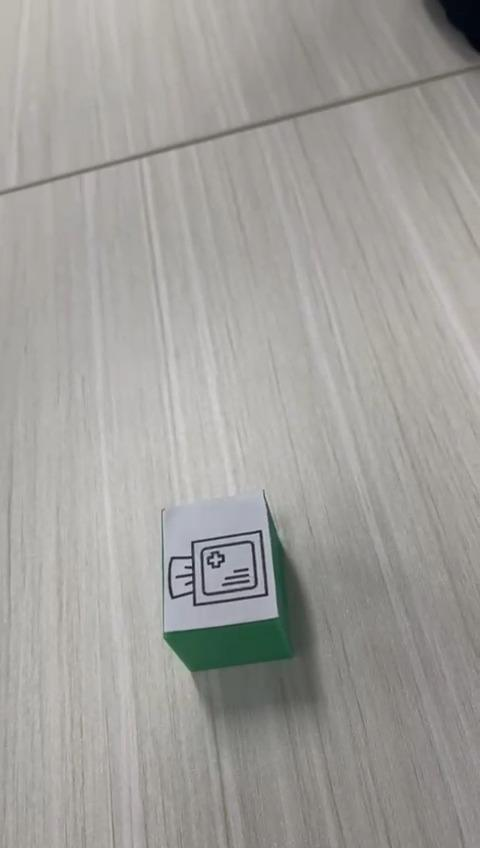Gauze: (159, 488, 294, 672)
